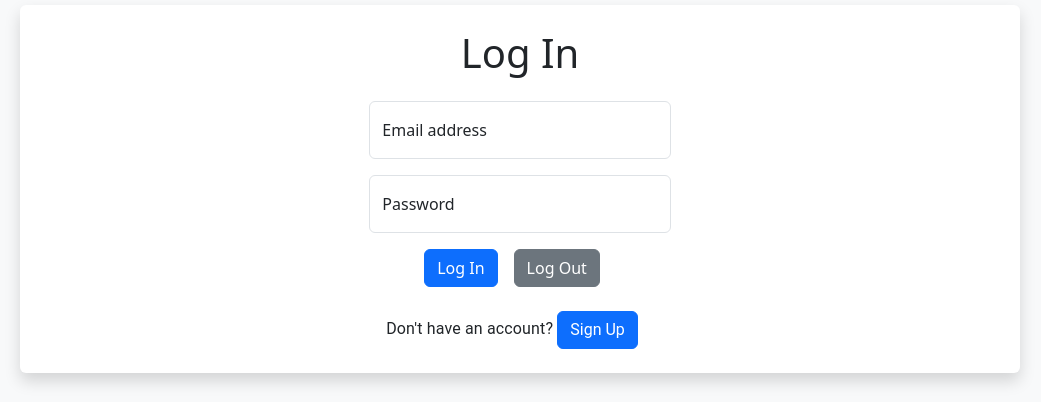
Test: allows switching to Sign Up form
Click the button "Sign Up".
click(598, 330)  # box left=557, top=311, right=638, bottom=349
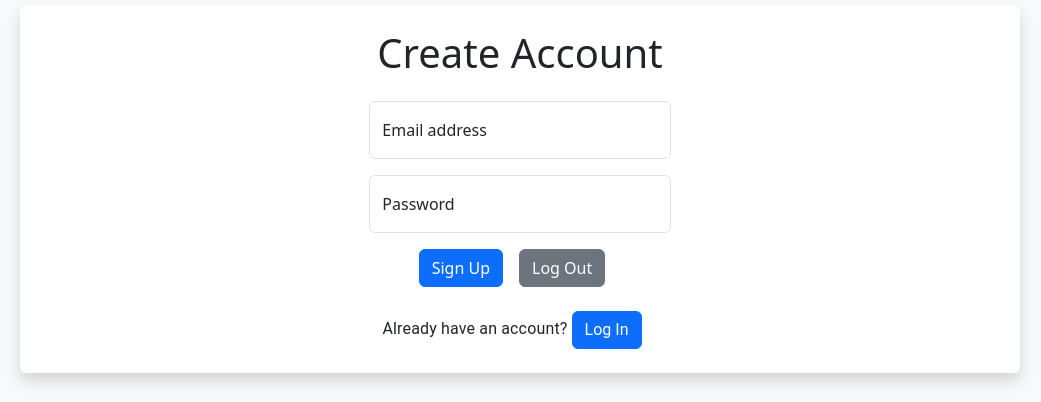
Expected: the heading "Create Account" is shown, left=377, top=25, right=663, bottom=80
